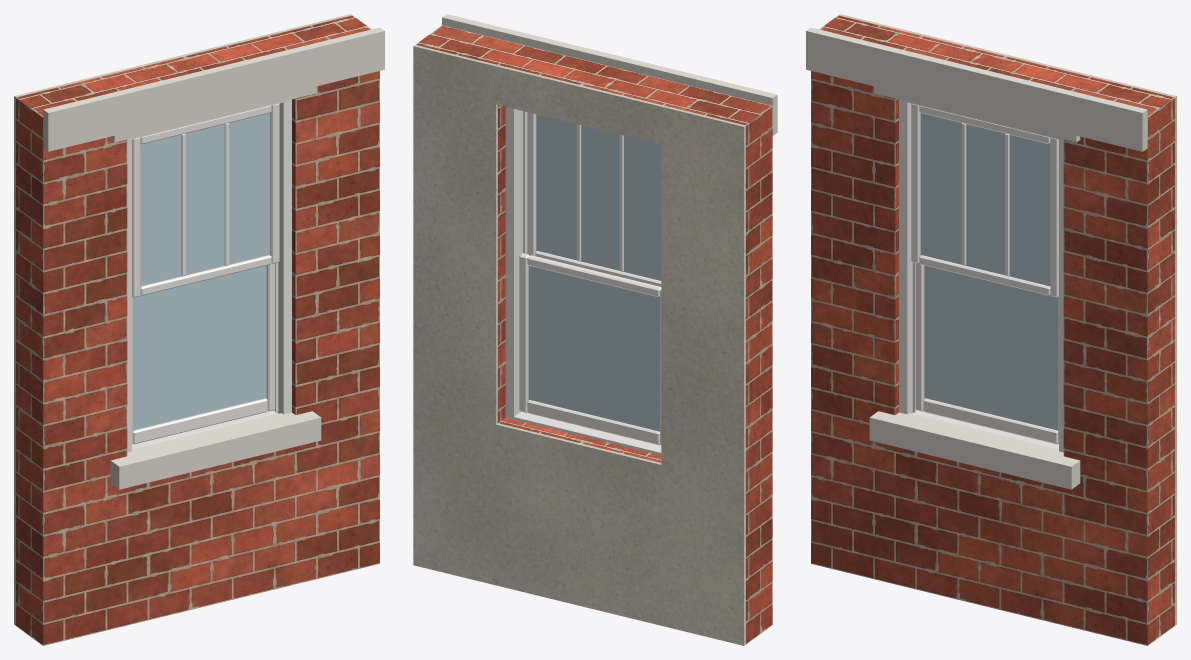
Rendered from wall_a1_window.glb.
3 views of the same model, side by side, from view 1: azimuth 30°, elevation 25°; view 2: azimuth 150°, elevation 25°; view 3: azimuth 330°, elevation 25° (orthographic).
Visible parts, largest first — view 1: wall_a1_window_brick, wall_a1_window_glass, wall_a1_window_lime, wall_a1_window_sash, wall_a1_window_frame, wall_a1_window_plaster, wall_a1_window_trim; view 2: wall_a1_window_plaster, wall_a1_window_glass, wall_a1_window_brick, wall_a1_window_sash, wall_a1_window_frame, wall_a1_window_lime, wall_a1_window_trim; view 3: wall_a1_window_brick, wall_a1_window_glass, wall_a1_window_lime, wall_a1_window_sash, wall_a1_window_frame, wall_a1_window_plaster, wall_a1_window_trim.
Boxes of the visible parts, left/top/right/bottom form: wall_a1_window_brick: left=16, top=15, right=379, bottom=645; wall_a1_window_glass: left=133, top=113, right=270, bottom=430; wall_a1_window_lime: left=43, top=27, right=384, bottom=489; wall_a1_window_sash: left=132, top=103, right=279, bottom=444; wall_a1_window_frame: left=127, top=99, right=291, bottom=452; wall_a1_window_plaster: left=14, top=14, right=352, bottom=625; wall_a1_window_trim: left=132, top=410, right=278, bottom=449; wall_a1_window_plaster: left=413, top=45, right=745, bottom=645; wall_a1_window_glass: left=528, top=114, right=661, bottom=431; wall_a1_window_brick: left=415, top=25, right=772, bottom=644; wall_a1_window_sash: left=519, top=112, right=661, bottom=445; wall_a1_window_frame: left=505, top=107, right=527, bottom=419; wall_a1_window_lime: left=442, top=14, right=777, bottom=135; wall_a1_window_trim: left=514, top=411, right=661, bottom=455; wall_a1_window_brick: left=811, top=15, right=1174, bottom=645; wall_a1_window_glass: left=920, top=113, right=1057, bottom=430; wall_a1_window_lime: left=806, top=27, right=1147, bottom=489; wall_a1_window_sash: left=911, top=103, right=1058, bottom=444; wall_a1_window_frame: left=899, top=99, right=1063, bottom=452; wall_a1_window_plaster: left=838, top=14, right=1176, bottom=625; wall_a1_window_trim: left=912, top=410, right=1058, bottom=449.
Size of the model in its own units: 2 by 3.05 by 0.39.
7 materials, 2 textured.
